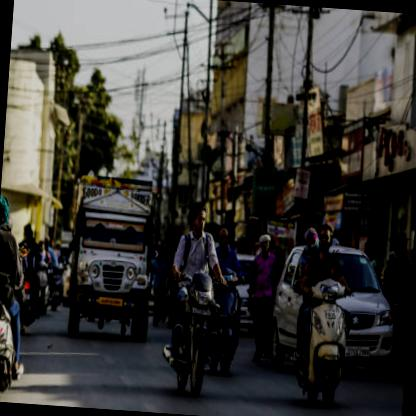car: (270, 240, 400, 382)
motorcycle: (160, 200, 240, 400), (289, 222, 356, 406), (0, 195, 36, 403), (204, 226, 246, 378)
truck: (65, 173, 159, 343)
